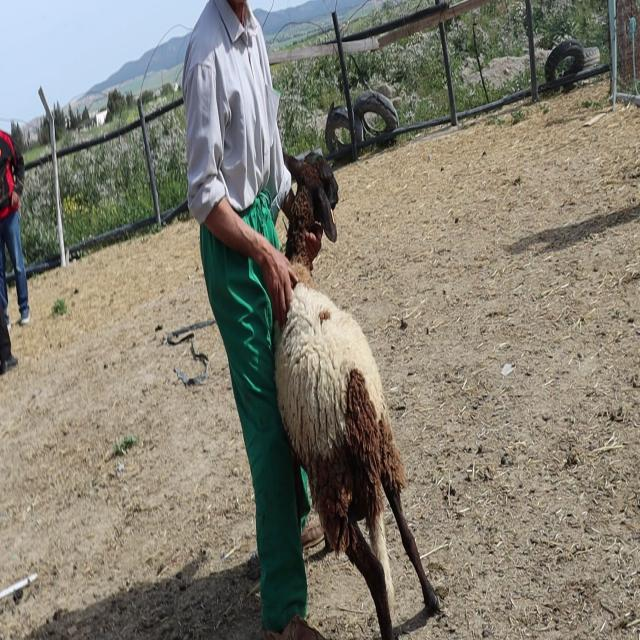Score_2: (274, 153, 439, 639)
